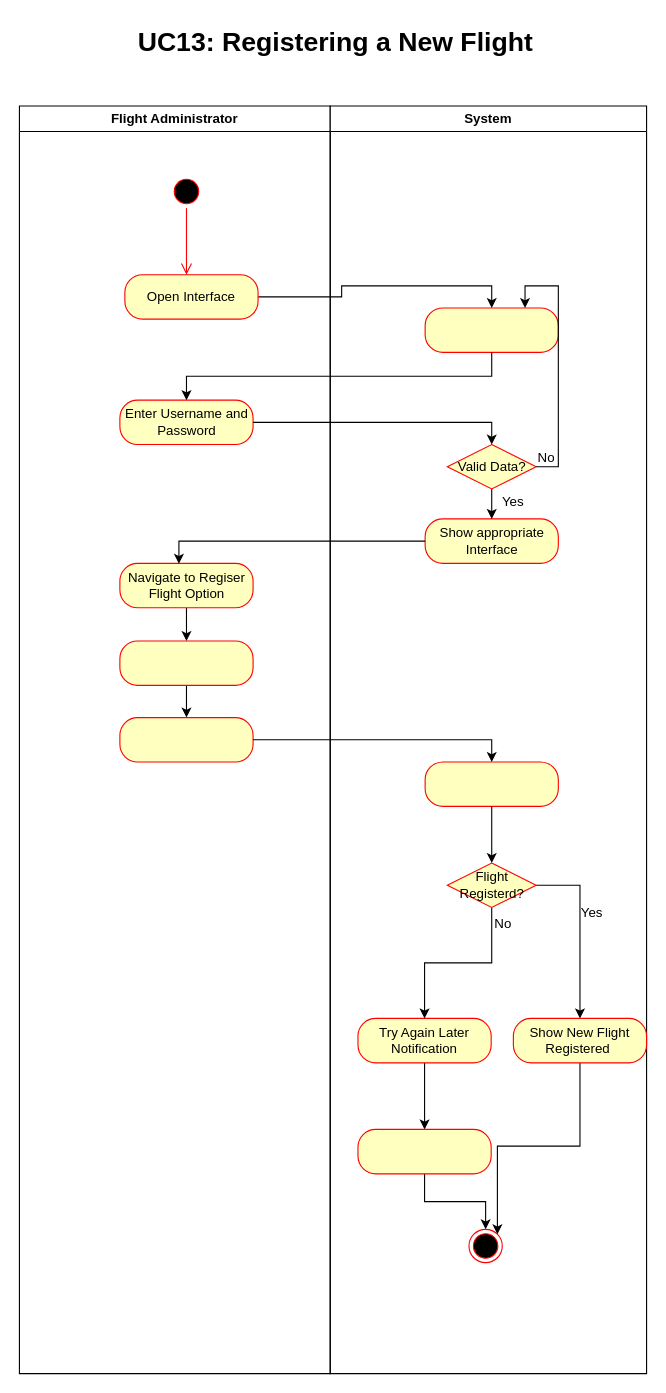
The diagram is 666 pixels wide and 1393 high, and some of its shapes have lost their labels. Each missing label, with the centre of its shape:
"Enter Flight Details" goes at (x=186, y=662).
"Register New Flight" goes at (x=491, y=783).
"Show Login Page" goes at (x=491, y=329).
"Submit New Flight" goes at (x=186, y=739).
"Troubleshooting Instructions" goes at (x=424, y=1151).
